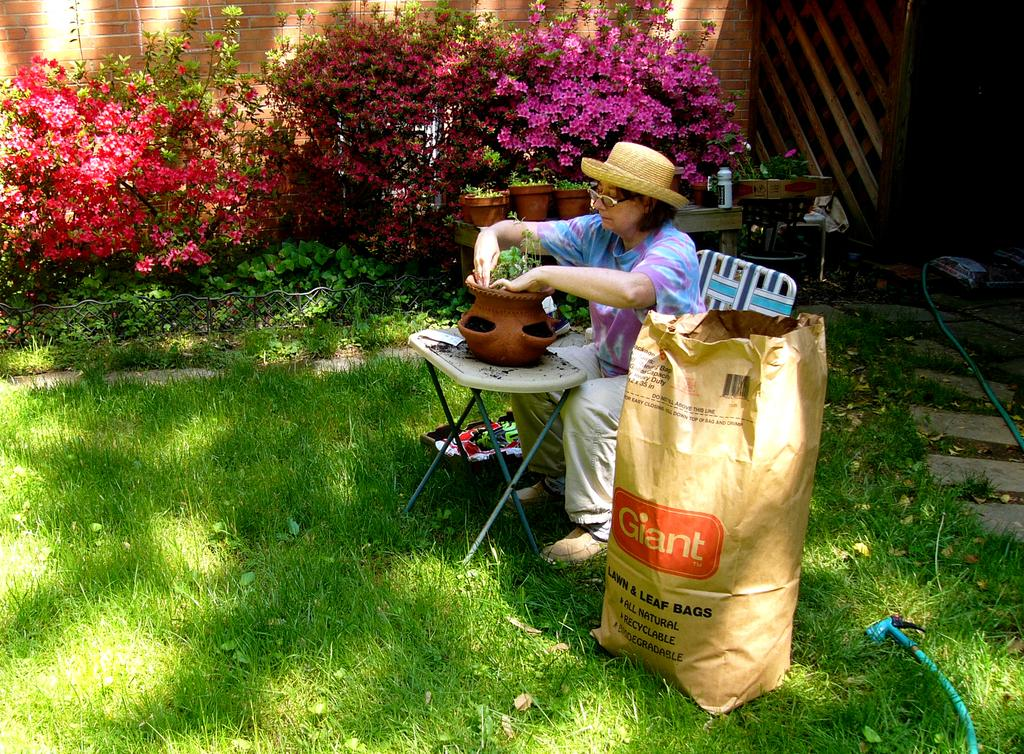Hat: (580, 136, 690, 213)
